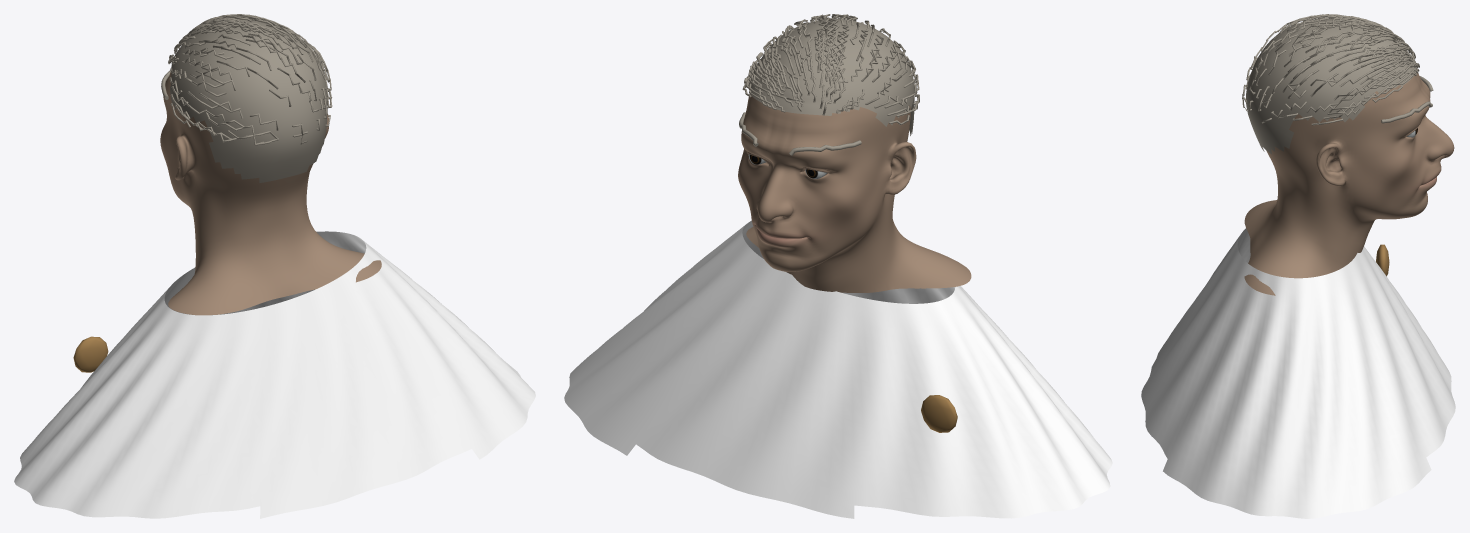
Rendered from envoy_039.glb.
3 views of the same model, side by side, from view 1: azimuth 30°, elevation 25°; view 2: azimuth 150°, elevation 25°; view 3: azimuth 270°, elevation 25° (orthographic). The views are drawn at different scales.
Visible parts, largest first — view 1: Folded shoulder mantle, Envoy 039 body, Envoy 039 fitted scalp, Shoulder clasp; view 2: Folded shoulder mantle, Envoy 039 body, Envoy 039 fitted scalp, Shoulder clasp; view 3: Folded shoulder mantle, Envoy 039 body, Envoy 039 fitted scalp.
Boxes of the visible parts, left/top/right/bottom form: Folded shoulder mantle: left=14, top=231, right=535, bottom=518; Envoy 039 body: left=160, top=72, right=381, bottom=315; Envoy 039 fitted scalp: left=170, top=18, right=327, bottom=182; Shoulder clasp: left=73, top=336, right=108, bottom=372; Folded shoulder mantle: left=564, top=221, right=1112, bottom=518; Envoy 039 body: left=738, top=94, right=971, bottom=292; Envoy 039 fitted scalp: left=748, top=18, right=914, bottom=135; Shoulder clasp: left=921, top=395, right=957, bottom=432; Folded shoulder mantle: left=1141, top=228, right=1455, bottom=518; Envoy 039 body: left=1244, top=73, right=1454, bottom=295; Envoy 039 fitted scalp: left=1246, top=18, right=1416, bottom=154.
Size of the model in its own units: 0.3152 by 0.2465 by 0.1831.
